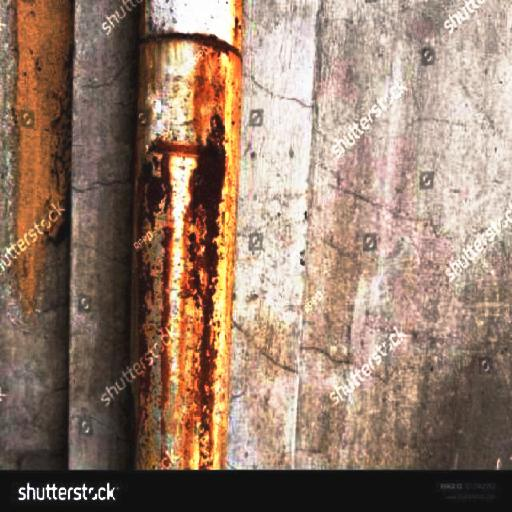corrosion: (136, 29, 230, 462)
